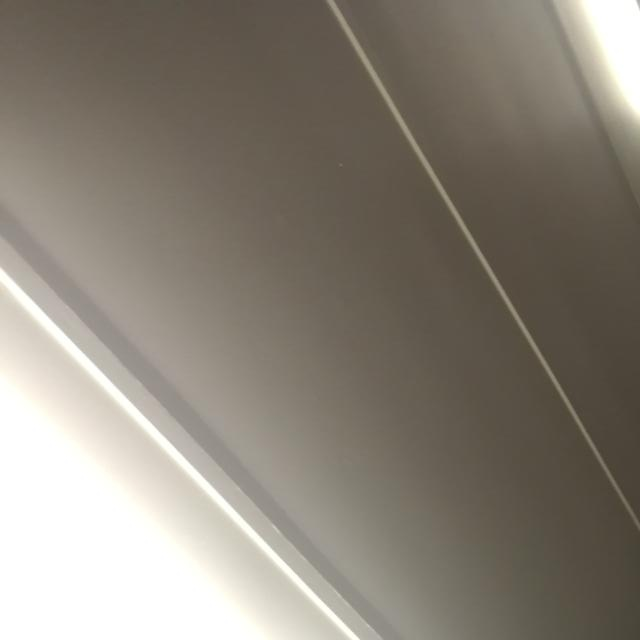fluorescent tube: (0, 290, 430, 640), (550, 0, 640, 154)
